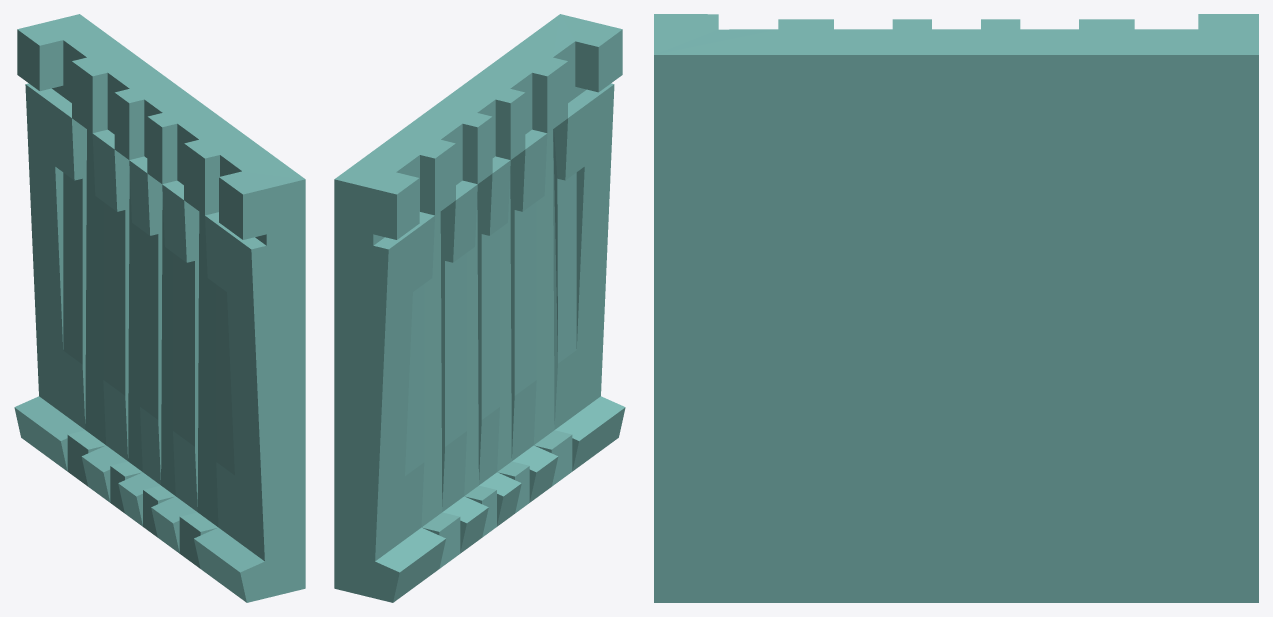
File: EspacioInicialParedInteriorAltoNI.gltf
3 views of the same model, side by side, from view 1: azimuth 30°, elevation 25°; view 2: azimuth 150°, elevation 25°; view 3: azimuth 270°, elevation 25° (orthographic). The views are drawn at different scales.
Parts seen in each view (by area): view 1: Pared interior alta.1; view 2: Pared interior alta.1; view 3: Pared interior alta.1.
Part boxes in pixels (bbox=[...]): Pared interior alta.1: bbox=[14, 14, 305, 602]; Pared interior alta.1: bbox=[334, 14, 625, 602]; Pared interior alta.1: bbox=[654, 14, 1258, 602].
Bounding box in the file's own units: 0.3344 × 2 × 2.
